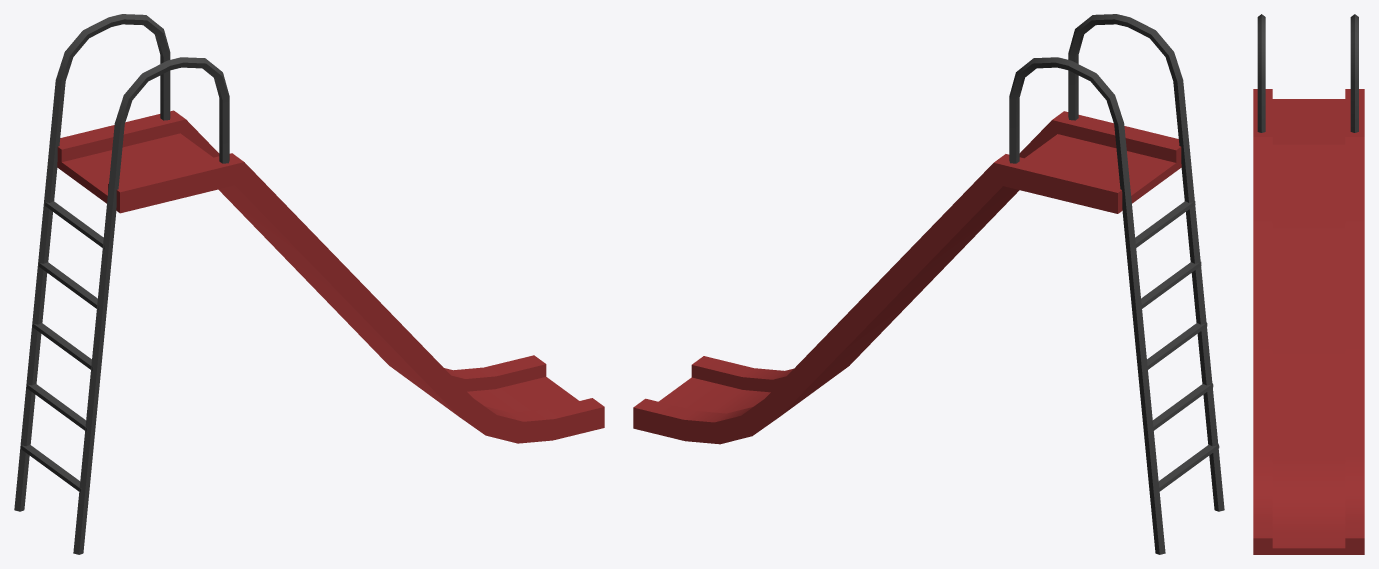
Rendered from SM_slide.fbx.
3 views of the same model, side by side, from view 1: azimuth 30°, elevation 25°; view 2: azimuth 150°, elevation 25°; view 3: azimuth 270°, elevation 25° (orthographic). The views are drawn at different scales.
Parts seen in each view (by area): view 1: Line016; view 2: Line016; view 3: Line016.
Part boxes in pixels (x1,y1,x2,y2): Line016: (14, 14, 604, 554); Line016: (633, 14, 1224, 554); Line016: (1253, 14, 1364, 554).
Bounding box in the file's own units: 123 × 105 × 28.44.
